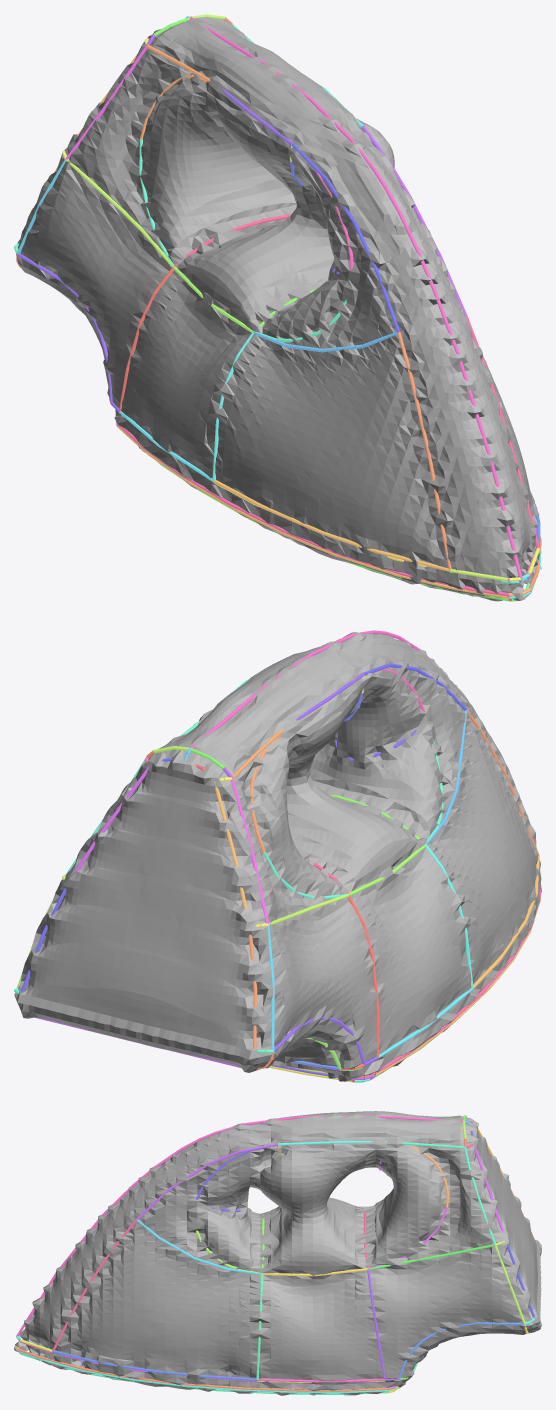
File: onshape_iron.gltf
The picture shows the model from 3 angles, top to bottom: view 1: azimuth 30°, elevation 25°; view 2: azimuth 150°, elevation 25°; view 3: azimuth 270°, elevation 25°; orthographic projection. The views are drawn at different scales.
Bounding box in the file's own units: 0.342 × 0.4368 × 0.8536.
